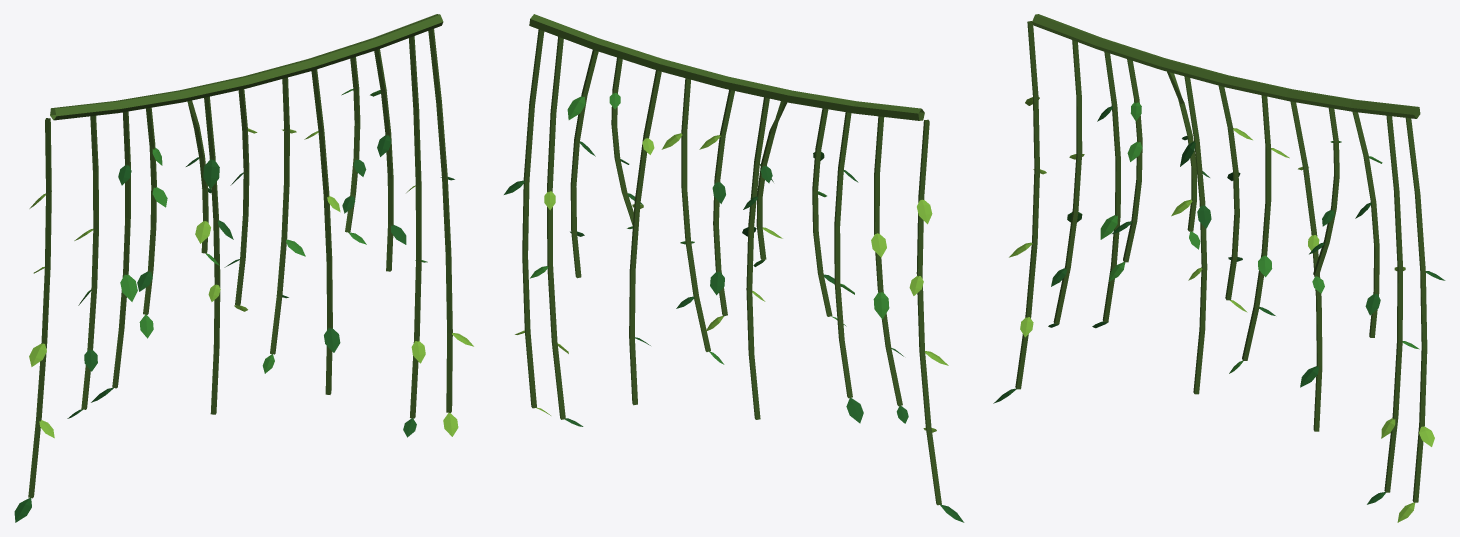
File: vine_curtain.glb
3 renders of one model, left to right at view 1: azimuth 30°, elevation 25°; view 2: azimuth 150°, elevation 25°; view 3: azimuth 330°, elevation 25°, orthographic.
Visible parts, largest first — view 1: vine_curtain; view 2: vine_curtain; view 3: vine_curtain.
Boxes of the visible parts, left/top/right/bottom form: vine_curtain: left=14, top=14, right=473, bottom=522; vine_curtain: left=504, top=14, right=964, bottom=522; vine_curtain: left=993, top=14, right=1445, bottom=522.
Size of the model in its own units: 4.67 by 4.06 by 0.5896.
